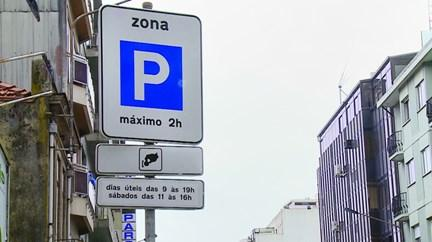zona de estacionamento autorizado: (91, 3, 209, 140)
